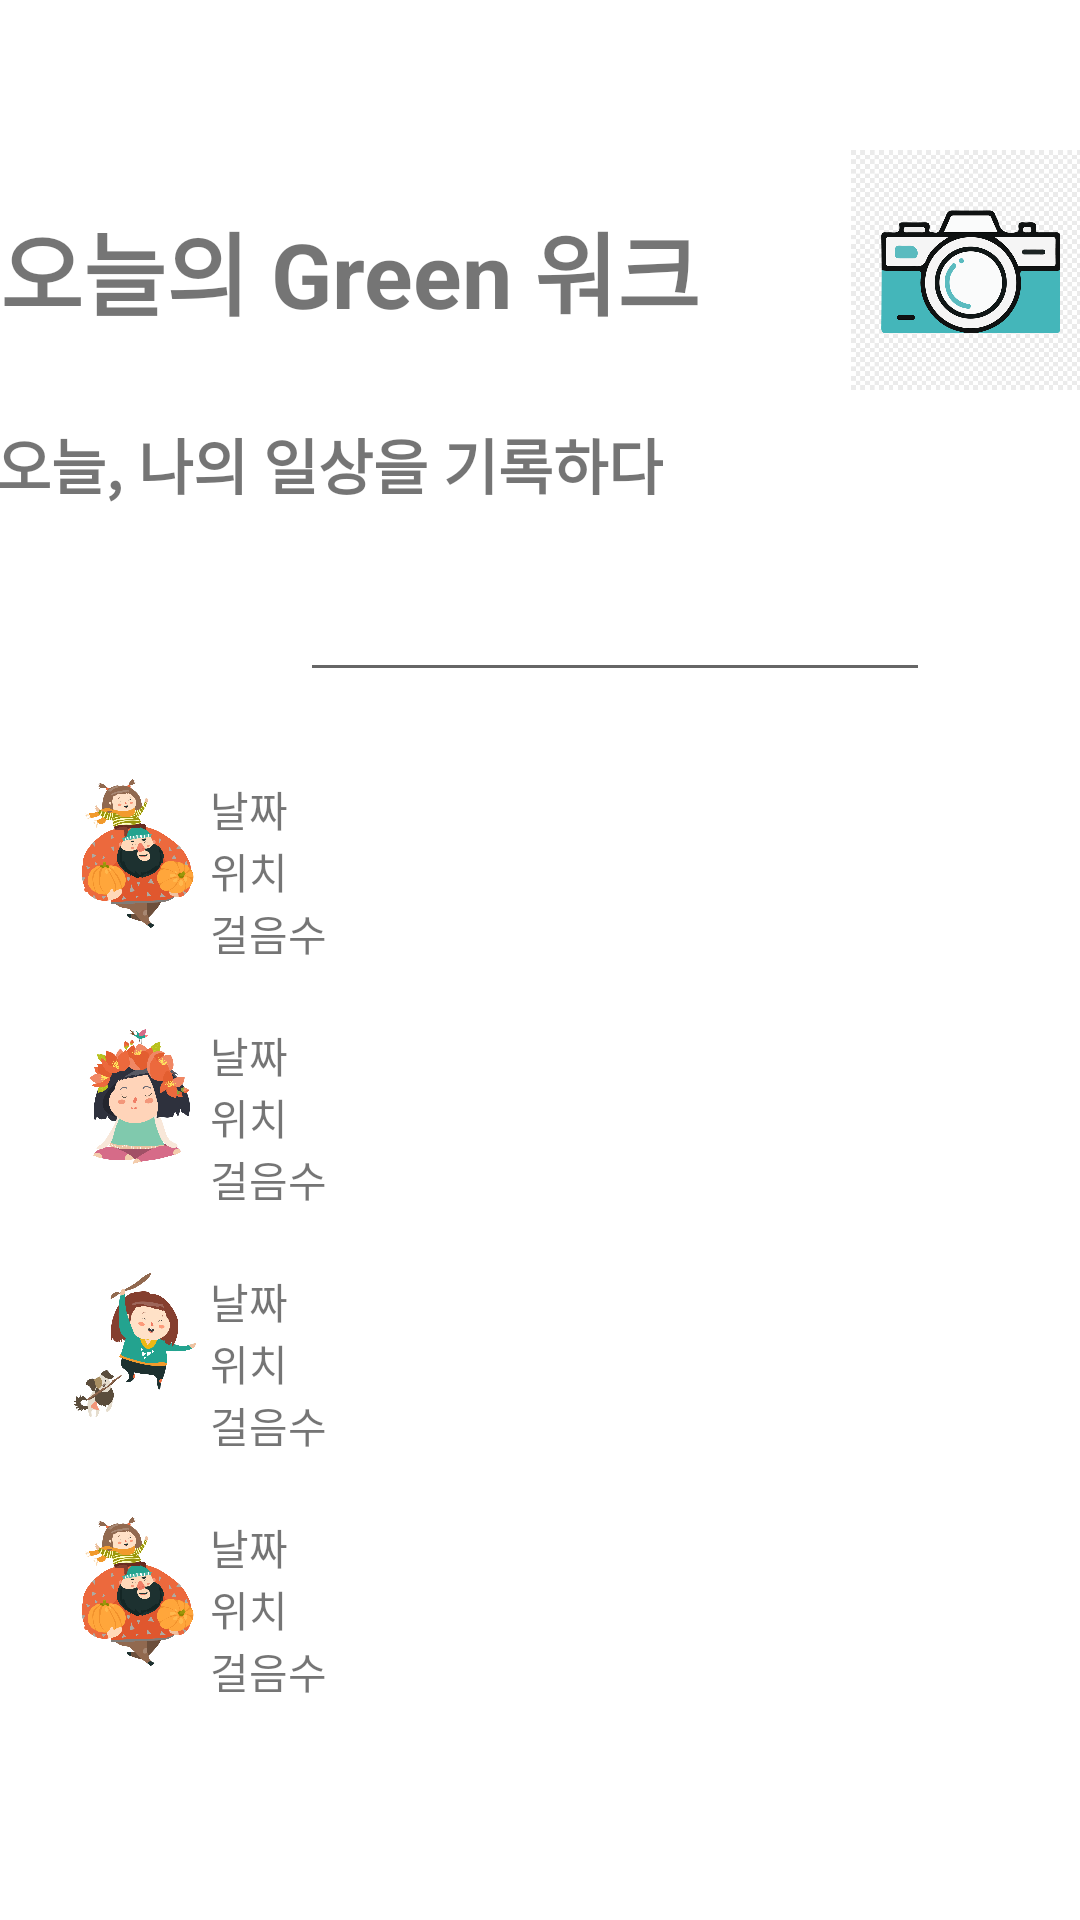

Icons on this 1080 x 1920 Android screen, each with its box as (x1, y1, x2, y2):
camera: (881, 210, 1060, 333)
